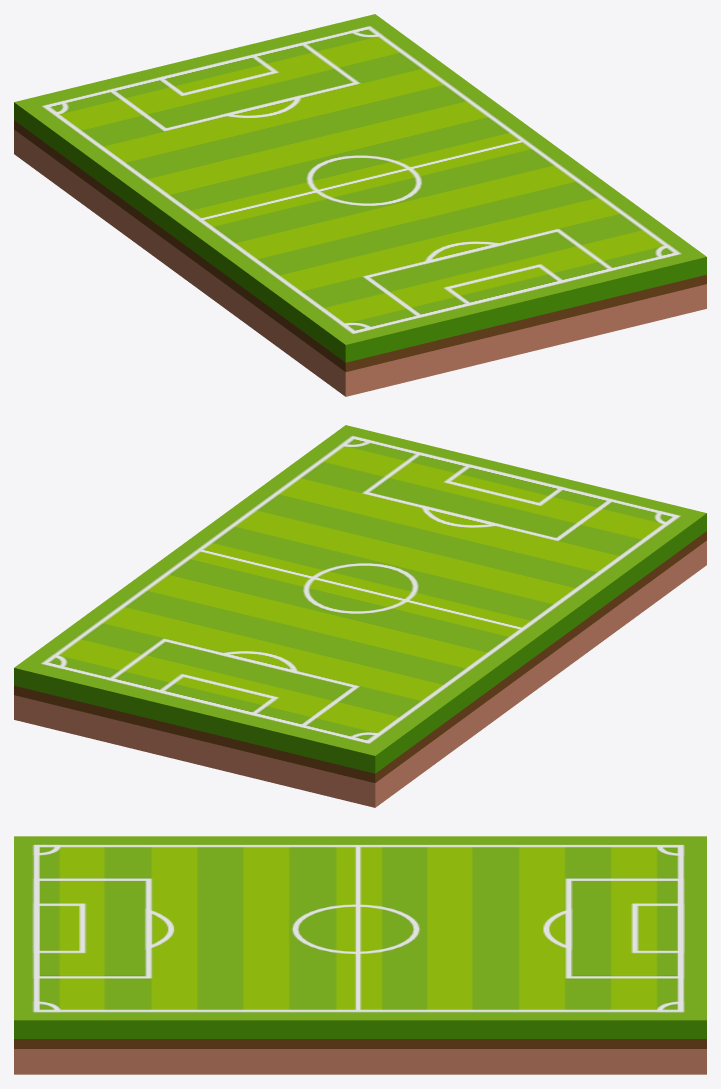
Rendered from field.glb.
3 views of the same model, one above another, from view 1: azimuth 30°, elevation 25°; view 2: azimuth 150°, elevation 25°; view 3: azimuth 270°, elevation 25° (orthographic). The views are drawn at different scales.
Visible parts, largest first — view 1: Cube; view 2: Cube; view 3: Cube.
Part boxes in pixels (bbox=[...]): Cube: bbox=[14, 14, 706, 396]; Cube: bbox=[14, 425, 706, 807]; Cube: bbox=[14, 836, 706, 1074].
Size of the model in its own units: 266 by 36.62 by 424.
5 materials, 2 textured.
